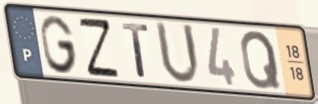4: (205, 25, 238, 90)
G: (38, 13, 80, 76)
Q: (238, 28, 284, 91)
T: (120, 20, 151, 80)
U: (153, 18, 202, 87)
Z: (76, 16, 122, 79)
